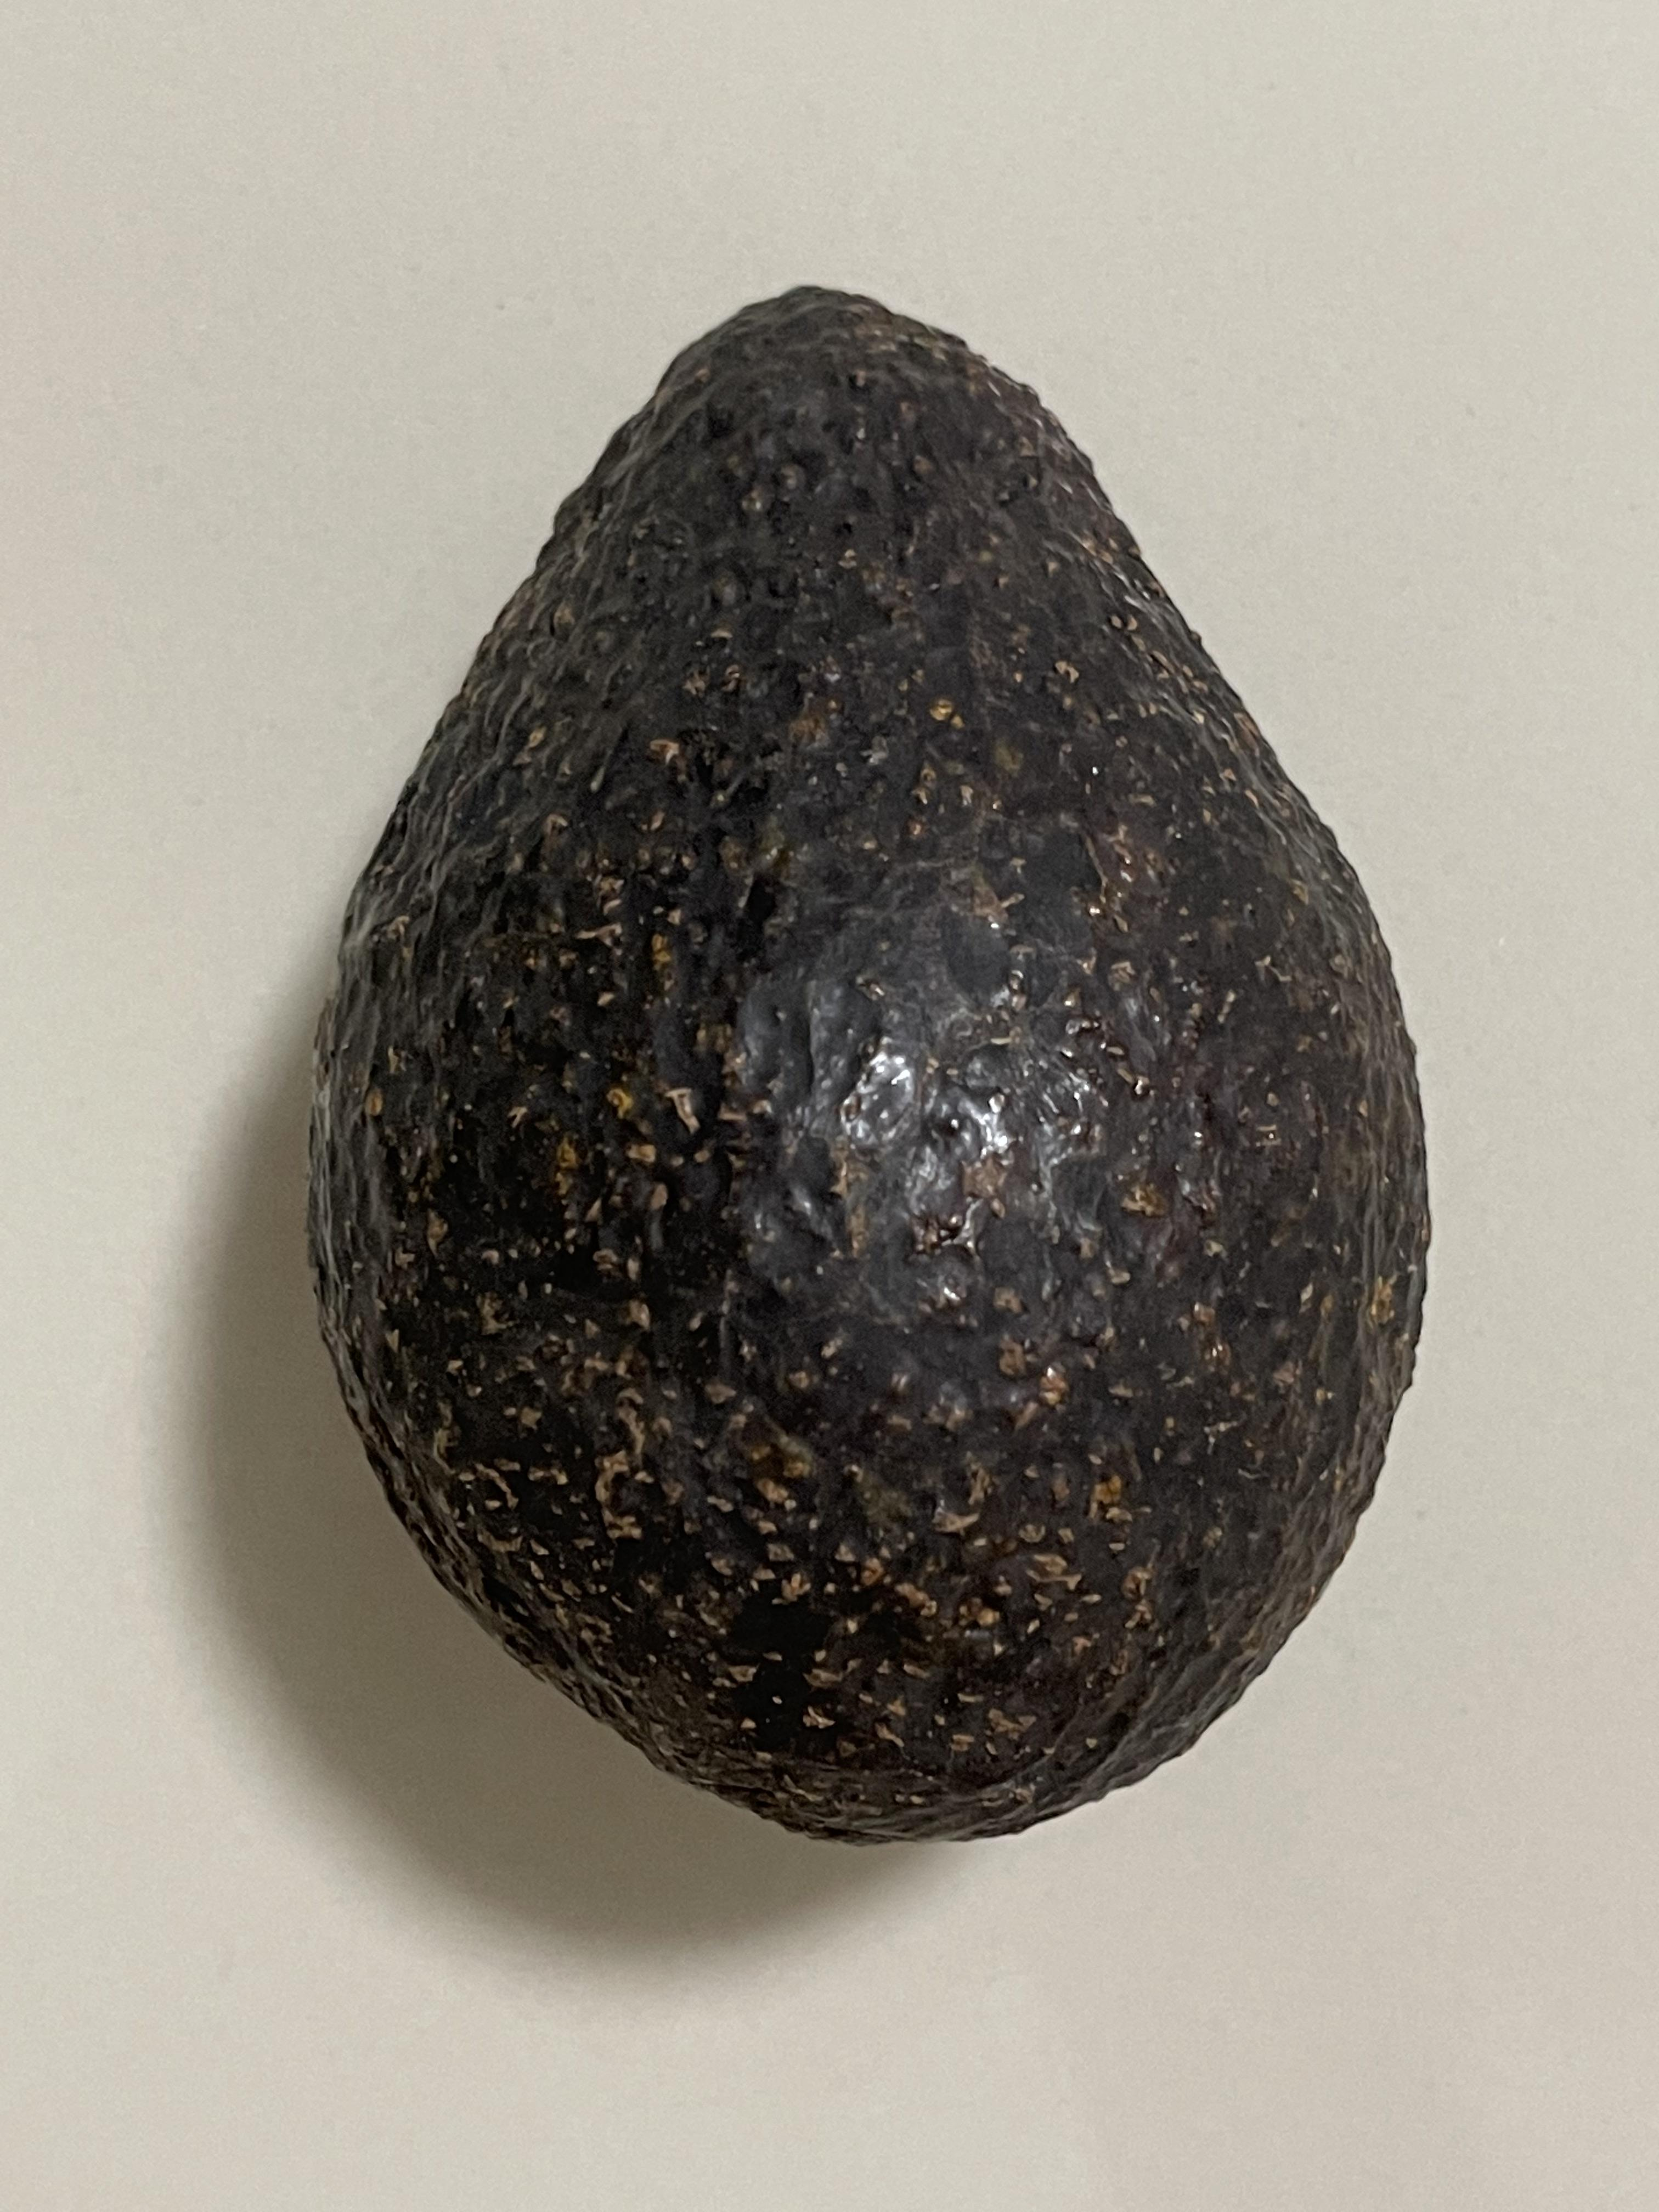Level3: (282, 258, 1453, 1874)
